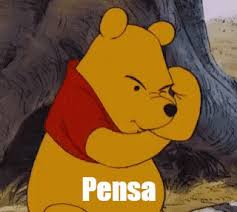Winnie: (61, 7, 203, 159)
